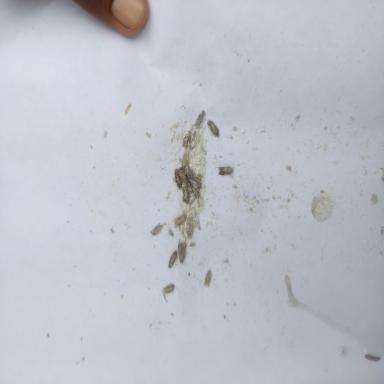pbw: (172, 208, 188, 228), (178, 167, 191, 189), (178, 241, 187, 264), (207, 120, 219, 137), (192, 110, 204, 127), (182, 130, 191, 150), (174, 167, 182, 189), (168, 251, 178, 268), (215, 166, 233, 175), (181, 149, 189, 169), (162, 284, 178, 294), (150, 224, 163, 236), (188, 182, 199, 196), (186, 216, 193, 238), (182, 185, 190, 204), (189, 131, 197, 149), (205, 269, 211, 286), (196, 172, 201, 190)
